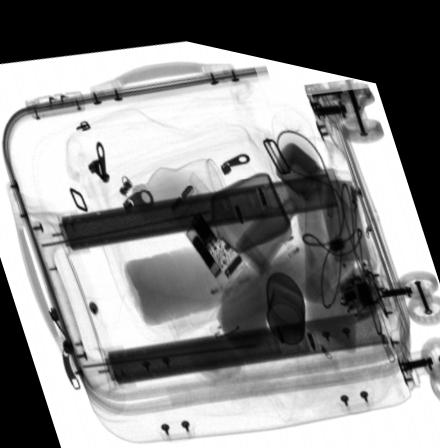Powerbank: (313, 158, 372, 250)
